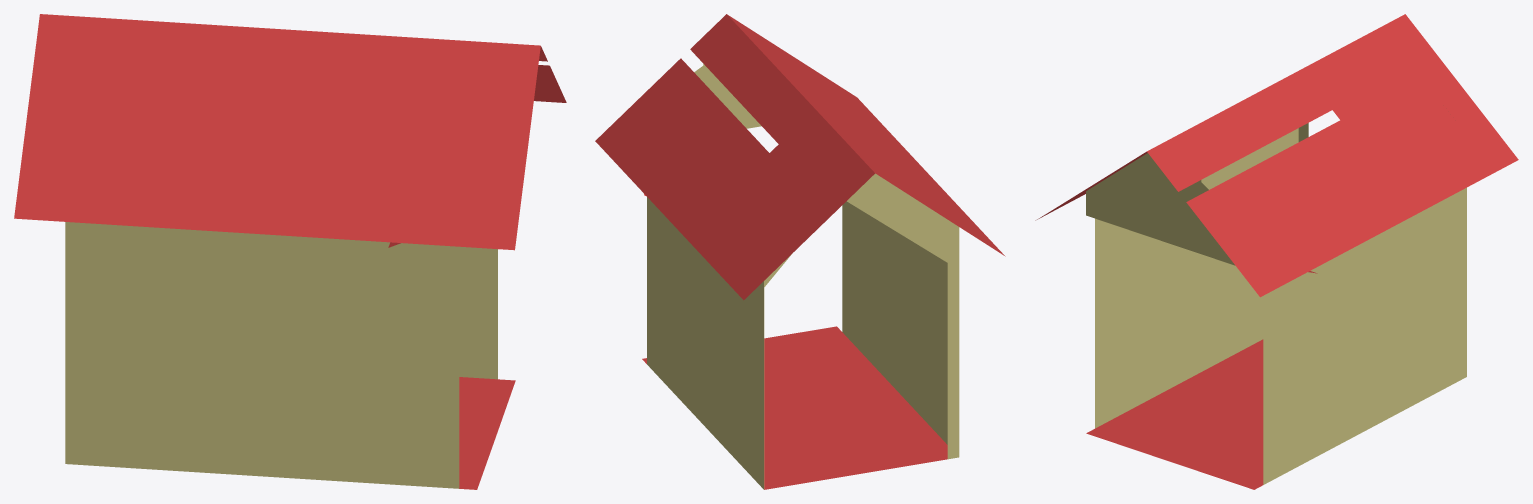
3 views of the same model, side by side, from view 1: azimuth 30°, elevation 25°; view 2: azimuth 150°, elevation 25°; view 3: azimuth 270°, elevation 25° (orthographic). The views are drawn at different scales.
Size of the model in its own units: 20.53 by 19.7 by 14.45.
